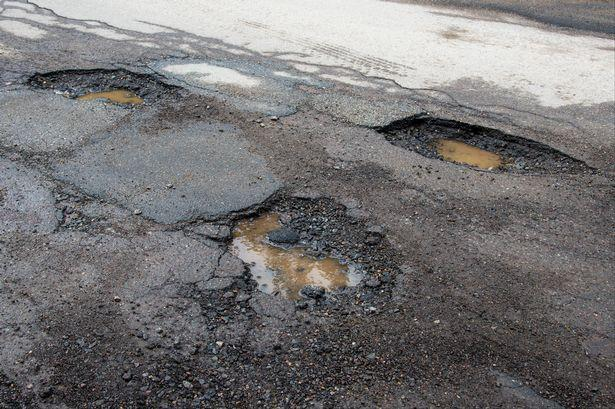Pothole: (203, 186, 414, 333), (357, 96, 566, 176), (9, 45, 203, 127)
